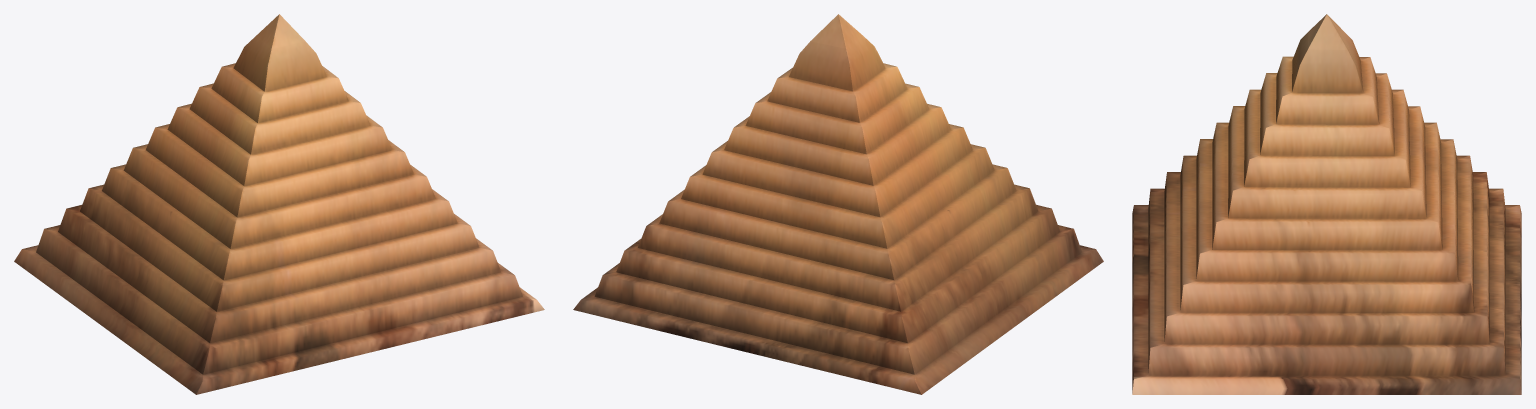
Rendered from Yellow_MD_MainSquare_PROP06.fbx.
3 views of the same model, side by side, from view 1: azimuth 30°, elevation 25°; view 2: azimuth 150°, elevation 25°; view 3: azimuth 270°, elevation 25° (orthographic). The views are drawn at different scales.
Parts seen in each view (by area): view 1: Yellow_MD_MainSquare_PROP06; view 2: Yellow_MD_MainSquare_PROP06; view 3: Yellow_MD_MainSquare_PROP06.
Boxes of the visible parts, x1,y1,x2,y2 form: Yellow_MD_MainSquare_PROP06: (14, 14, 544, 394); Yellow_MD_MainSquare_PROP06: (573, 14, 1103, 394); Yellow_MD_MainSquare_PROP06: (1132, 14, 1521, 394).
Size of the model in its own units: 0.5254 by 0.3913 by 0.4758.
